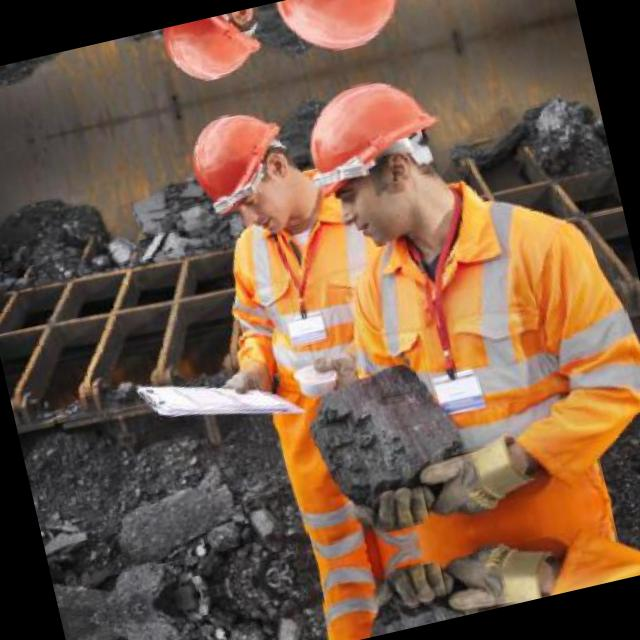helmet: (288, 53, 475, 259), (165, 91, 318, 251), (143, 3, 284, 102), (268, 0, 433, 76)
